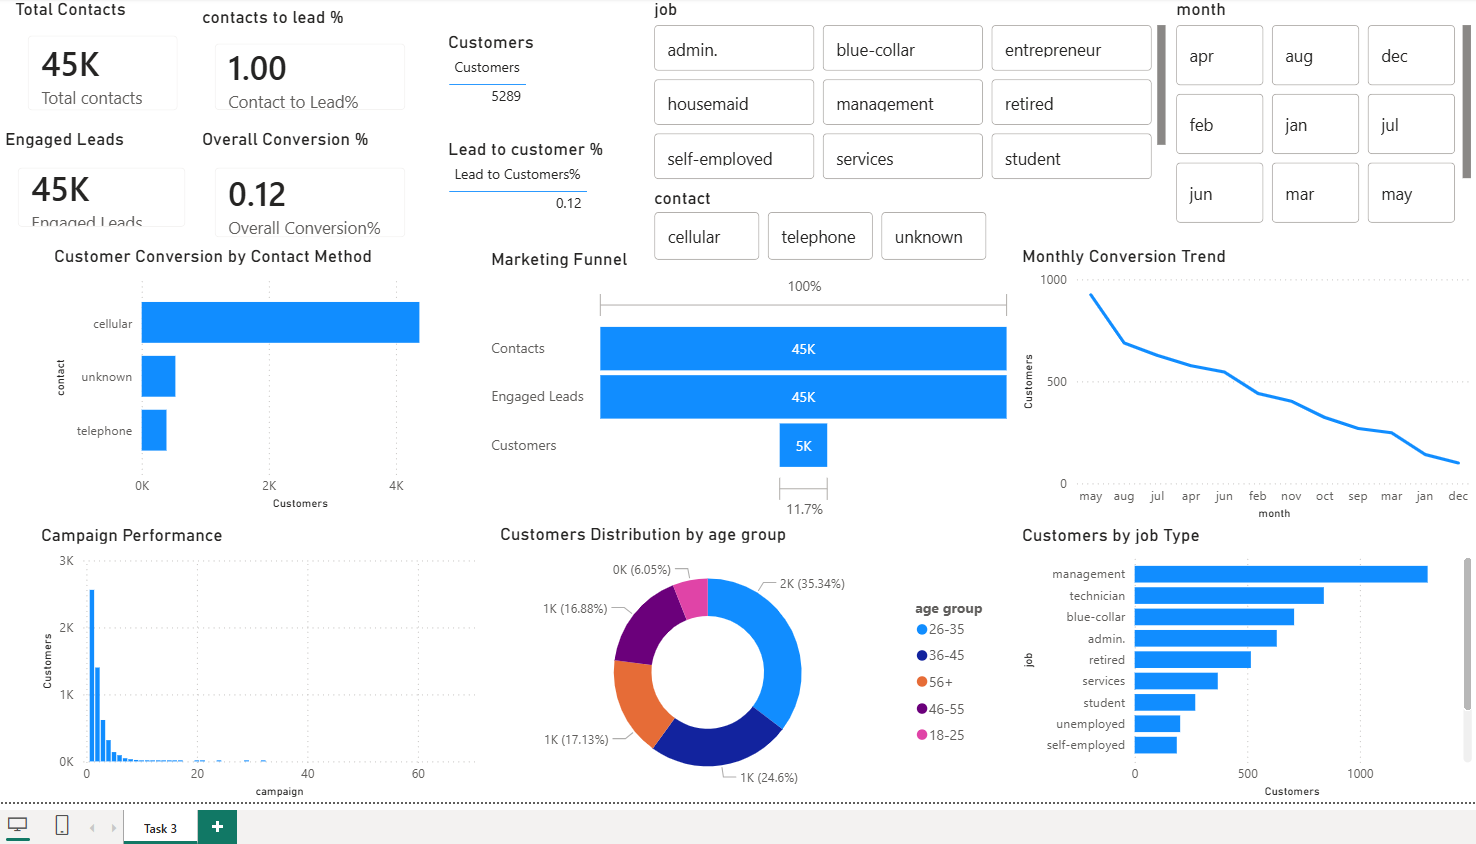

What the dashboard file says about the page in this screenshot:
{"tool":"powerbi","page":{"name":"Task 3","canvas":[1418,772],"ordinal":0},"visuals":[{"type":"cardVisual","title":"Total Contacts","fields":{"Data":["Table1.Total contacts"]},"box":[9.7,0,179,125.5],"z":0},{"type":"cardVisual","title":"Engaged Leads","fields":{"Data":["Table1.Engaged Leads"]},"box":[0,125.1,195.4,112.6],"z":1},{"type":"tableEx","title":"Customers","fields":{"Values":["Table1.Customers"]},"box":[399.4,40.3,134.4,94.1],"z":2},{"type":"cardVisual","title":"contacts to lead %","fields":{"Data":["Table1.Contact to Lead%"]},"box":[188.7,7.7,217.6,117.4],"z":3},{"type":"tableEx","title":"Lead to customer %","fields":{"Values":["Table1.Lead to Customers%"]},"box":[399.4,134.4,171.9,93.1],"z":4},{"type":"cardVisual","title":"Overall Conversion %","fields":{"Data":["Table1.Overall Conversion%"]},"box":[188.7,125.1,217.6,122.3],"z":5},{"type":"funnel","title":"Marketing Funnel","fields":{"Category":["FunnelData.stage"],"Y":["Sum(FunnelData.count)"]},"box":[466.7,240,509.9,266.9],"z":6},{"type":"clusteredBarChart","title":"Customer Conversion by Contact Method","fields":{"Category":["Table1.contact"],"Y":["Table1.Customers"]},"box":[47,237.2,406.2,258.3],"z":7},{"type":"clusteredColumnChart","title":"Campaign Performance","fields":{"Y":["Table1.Customers"],"Category":["Table1.campaign"]},"box":[34.6,505.1,432.1,266.9],"z":8},{"type":"lineChart","title":"Monthly Conversion Trend","fields":{"Category":["Table1.month"],"Y":["Table1.Customers"]},"box":[976.5,237.2,441.7,267.9],"z":9},{"type":"barChart","title":"Customers by job Type","fields":{"Category":["Table1.job"],"Y":["Table1.Customers"]},"box":[976.5,505.1,441.7,266.9],"z":10},{"type":"donutChart","title":"Customers Distribution by age group","fields":{"Category":["Table1.age group"],"Y":["Table1.Customers"]},"box":[475.3,504.1,492.6,267.9],"z":11},{"type":"advancedSlicerVisual","fields":{"Values":["Table1.month"]},"box":[1124.4,0,293.8,222.8],"z":12},{"type":"advancedSlicerVisual","fields":{"Values":["Table1.contact"]},"box":[623.2,181.5,330.3,75.9],"z":13},{"type":"advancedSlicerVisual","fields":{"Values":["Table1.job"]},"box":[623.2,0,501.2,181.5],"z":14}]}

Visuals, with their boxes on the page's 1418x772 design canvas (x1, y1, x2, y2). These are canvas units, not pixel positions in the 1476x844 screenshot, which may show the page scaled, cropped or inside an application window:
"Total Contacts" cardVisual: pyautogui.locateOnScreen(10, 0, 189, 126)
"Engaged Leads" cardVisual: pyautogui.locateOnScreen(0, 125, 195, 238)
"Customers" tableEx: pyautogui.locateOnScreen(399, 40, 534, 134)
"contacts to lead %" cardVisual: pyautogui.locateOnScreen(189, 8, 406, 125)
"Lead to customer %" tableEx: pyautogui.locateOnScreen(399, 134, 571, 228)
"Overall Conversion %" cardVisual: pyautogui.locateOnScreen(189, 125, 406, 247)
"Marketing Funnel" funnel: pyautogui.locateOnScreen(467, 240, 977, 507)
"Customer Conversion by Contact Method" clusteredBarChart: pyautogui.locateOnScreen(47, 237, 453, 496)
"Campaign Performance" clusteredColumnChart: pyautogui.locateOnScreen(35, 505, 467, 772)
"Monthly Conversion Trend" lineChart: pyautogui.locateOnScreen(976, 237, 1418, 505)
"Customers by job Type" barChart: pyautogui.locateOnScreen(976, 505, 1418, 772)
"Customers Distribution by age group" donutChart: pyautogui.locateOnScreen(475, 504, 968, 772)
advancedSlicerVisual - Table1.month: pyautogui.locateOnScreen(1124, 0, 1418, 223)
advancedSlicerVisual - Table1.contact: pyautogui.locateOnScreen(623, 182, 954, 257)
advancedSlicerVisual - Table1.job: pyautogui.locateOnScreen(623, 0, 1124, 182)
